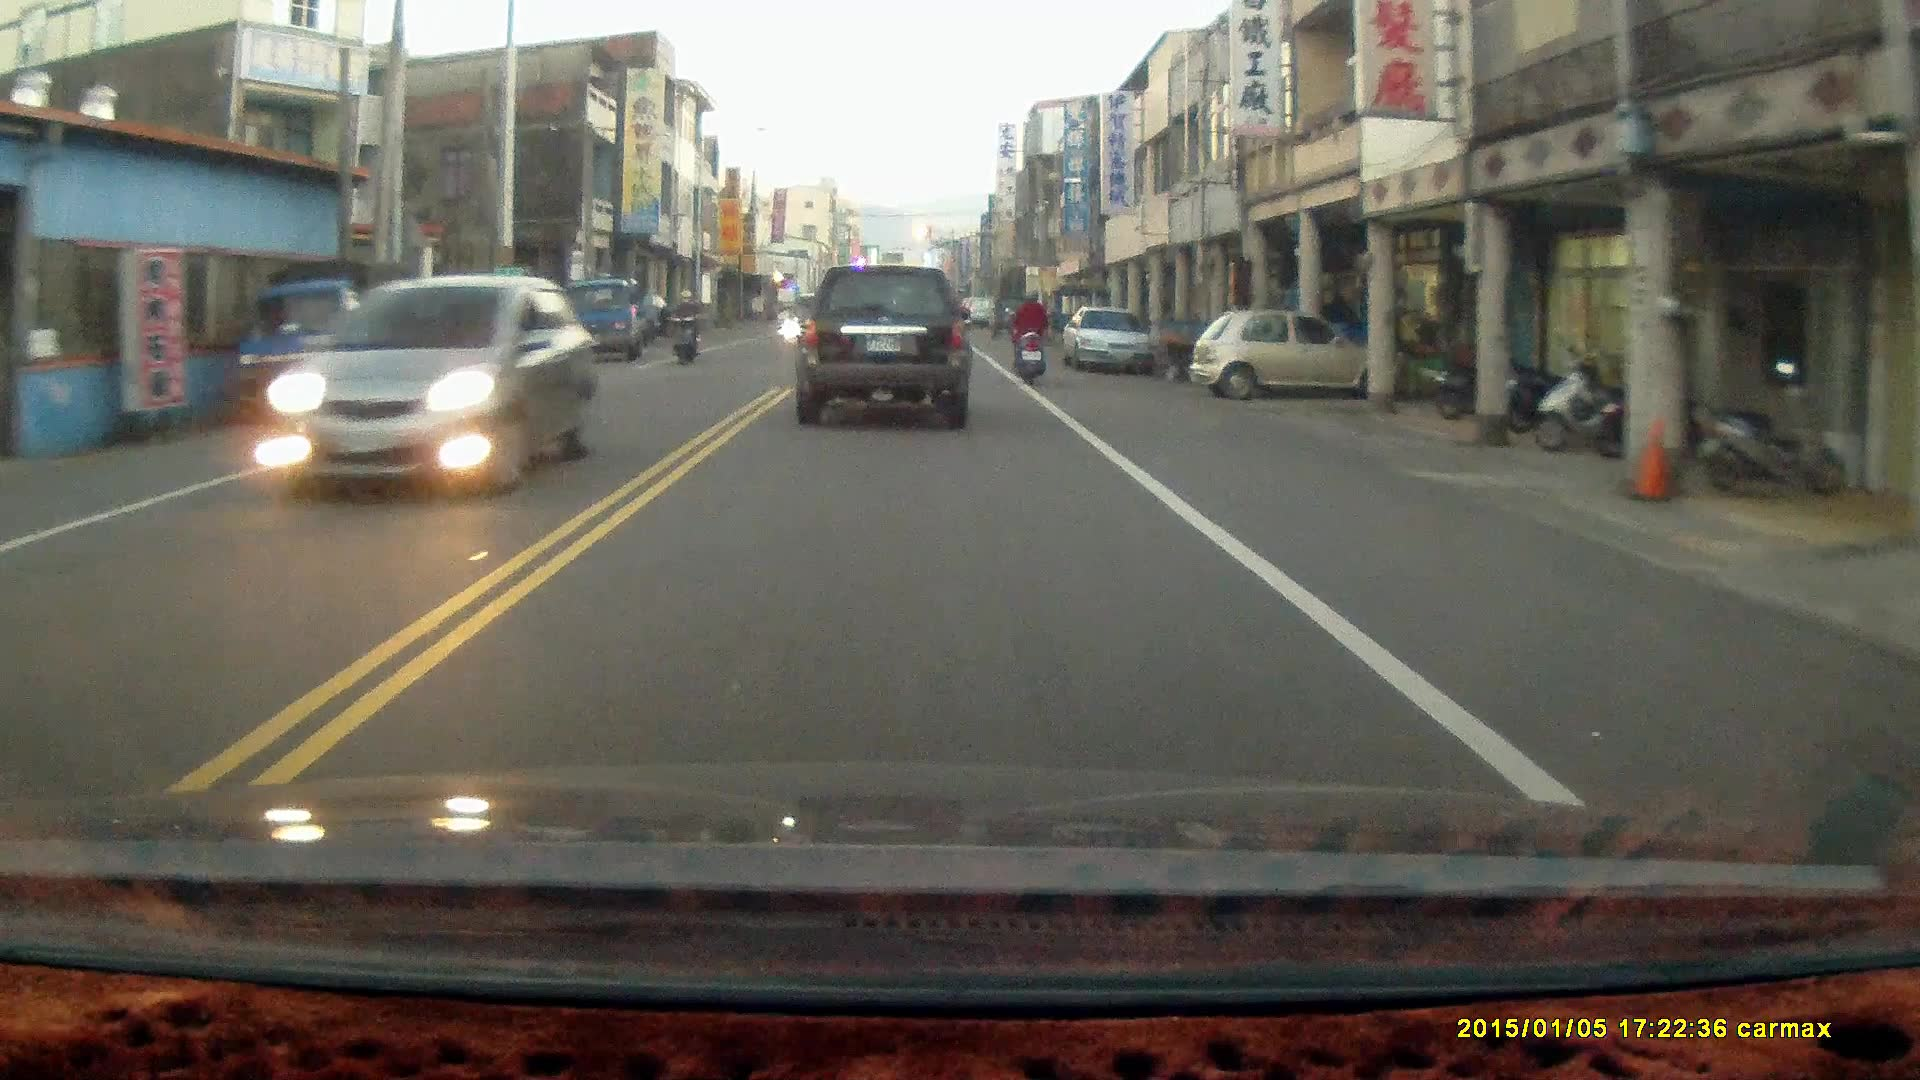rider: (1011, 284, 1049, 381), (668, 285, 699, 360)
vehicle: (248, 267, 600, 501), (794, 255, 975, 427), (229, 257, 420, 421), (1196, 303, 1397, 397), (558, 273, 671, 360), (1064, 303, 1159, 370)
